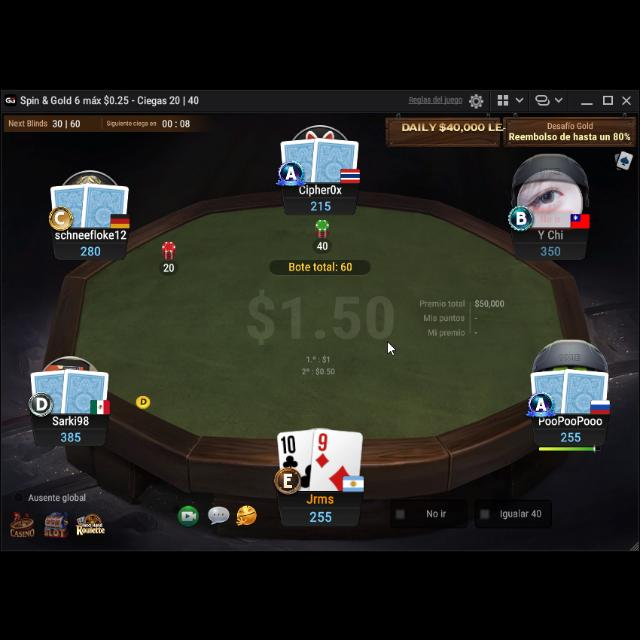9d: (314, 430, 332, 470)
Tc: (280, 434, 298, 470)
bet_text: (162, 260, 175, 274), (316, 240, 329, 250)
dealer: (134, 392, 152, 410)
pot_text: (288, 260, 356, 272)
stack_text: (308, 509, 336, 523), (538, 243, 562, 257), (58, 431, 82, 444), (310, 198, 332, 212), (80, 244, 102, 256), (560, 431, 582, 443)
